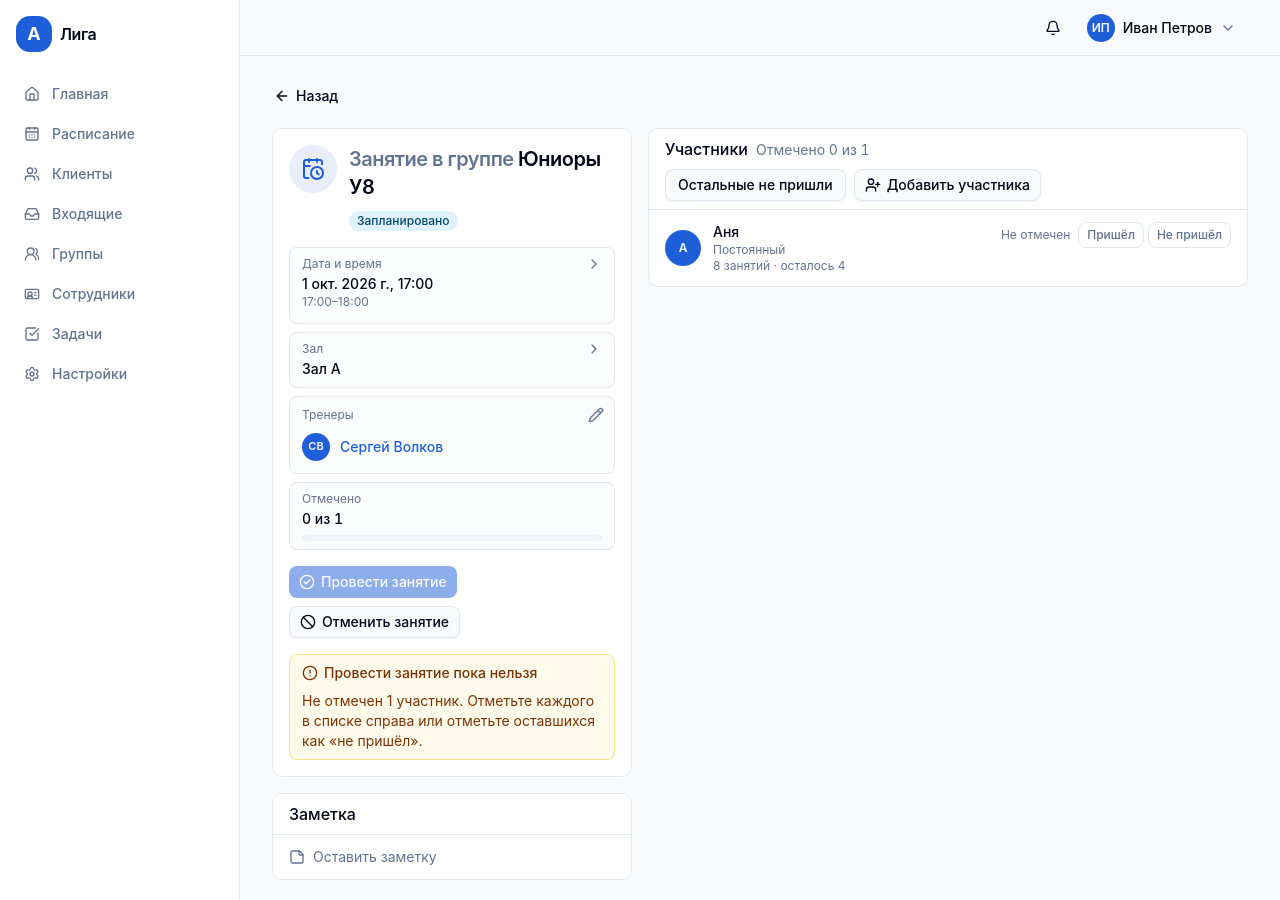
Test case: карточка занятия › клик по тренеру открывает его карточку панелью, после закрытия остаётся занятие
Click the link "СВ Сергей Волков".
click(373, 447)  # box [302, 433, 443, 461]
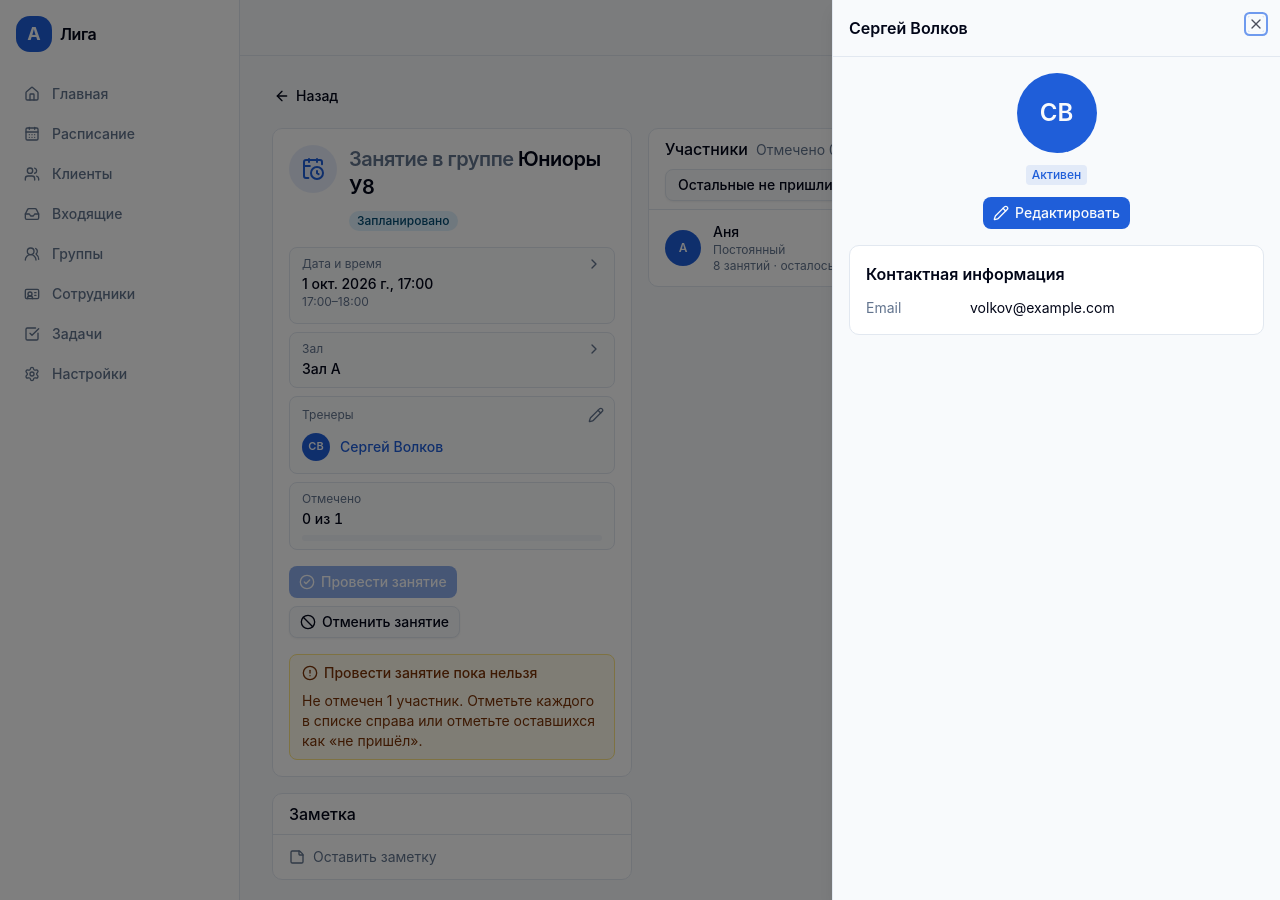
Expected: the text "volkov@example.com" is shown, [970, 298, 1115, 318]
Click the button named "Закрыть".
click(1256, 24)  # box [1248, 16, 1264, 32]
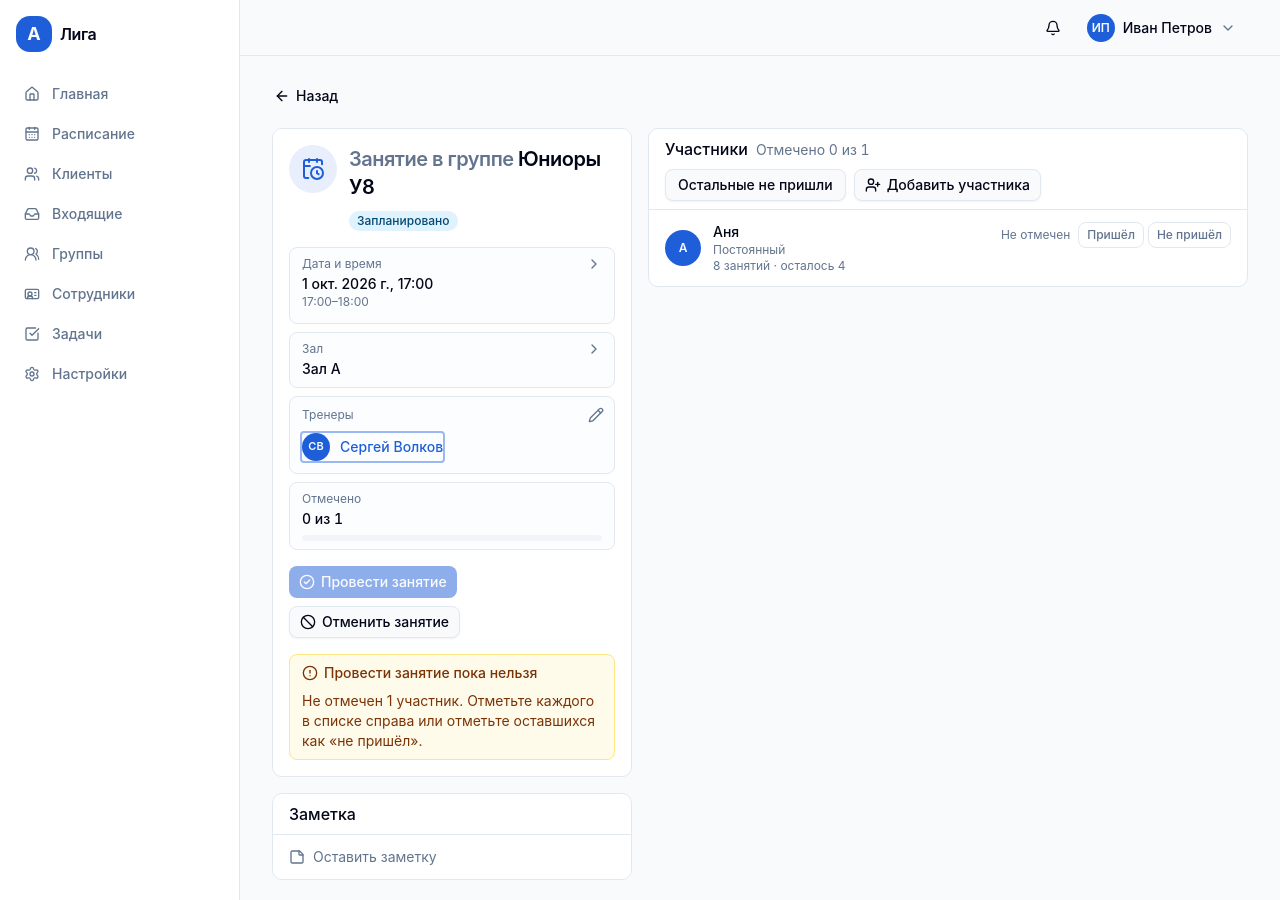
Expected: the link "Юниоры У8" is shown, [349, 147, 601, 199]
Expected: the dialog is gone
